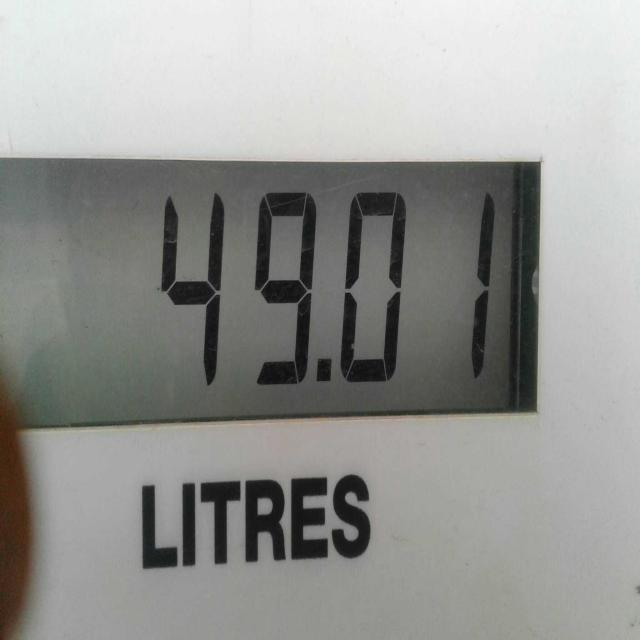.: (309, 347, 345, 409)
0: (338, 191, 416, 391)
4: (159, 190, 240, 390)
9: (250, 185, 315, 392)
